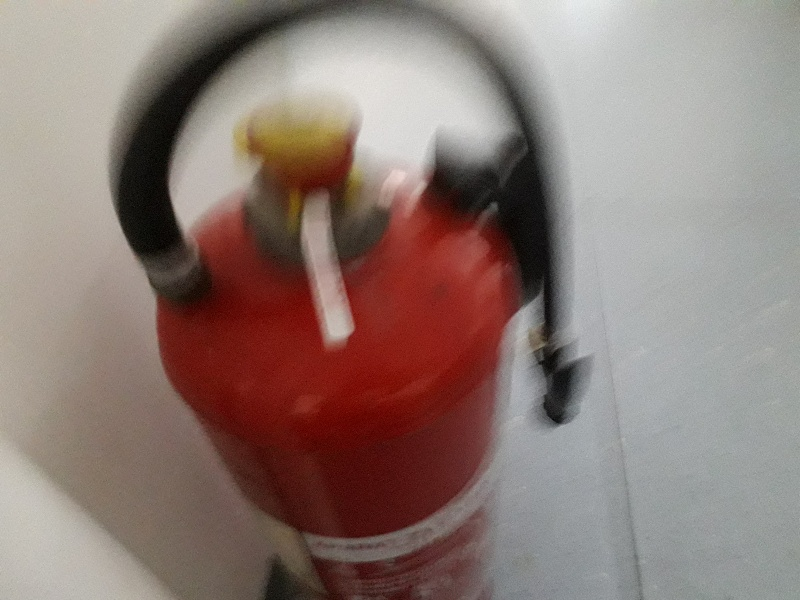vataparat: (108, 1, 585, 597)
